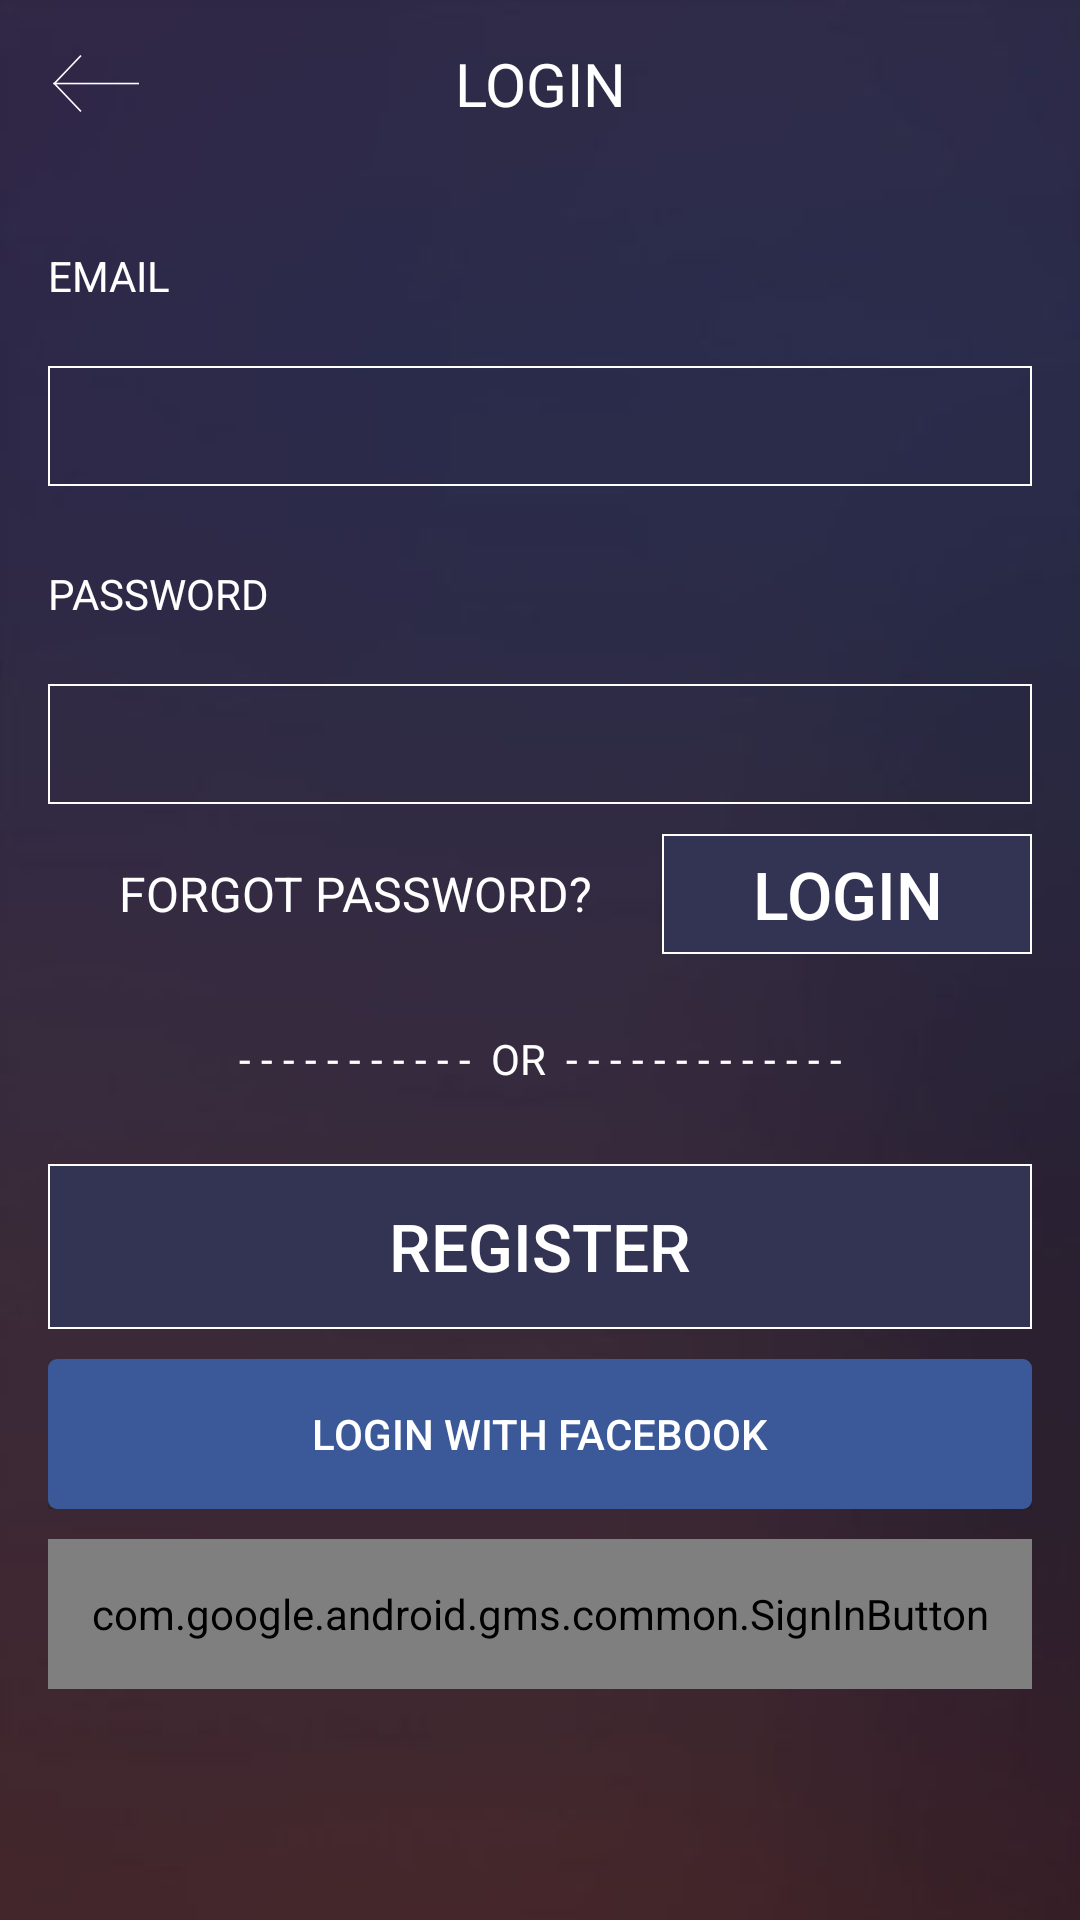

Icons on this 1080x1920 Android screen, each with the point to tap as (x=x, y=y):
arrow back: (x=96, y=83)
